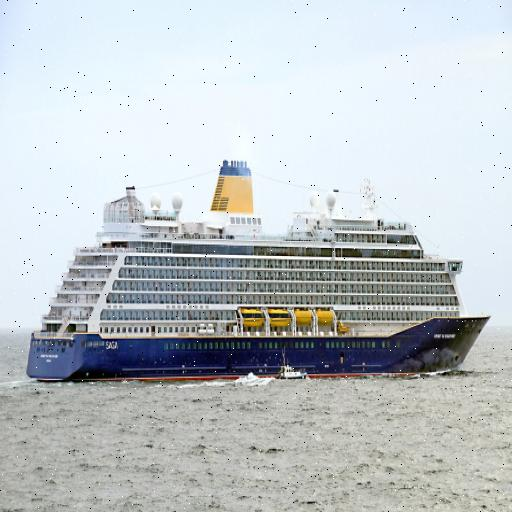cruises: (25, 144, 490, 386)
